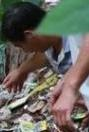hard-hat: (0, 0, 20, 17)
